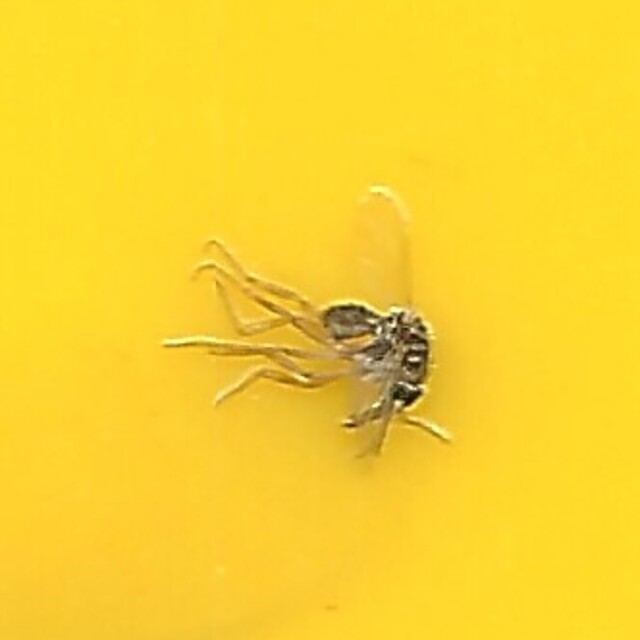Brachycera: (193, 194, 447, 446)
